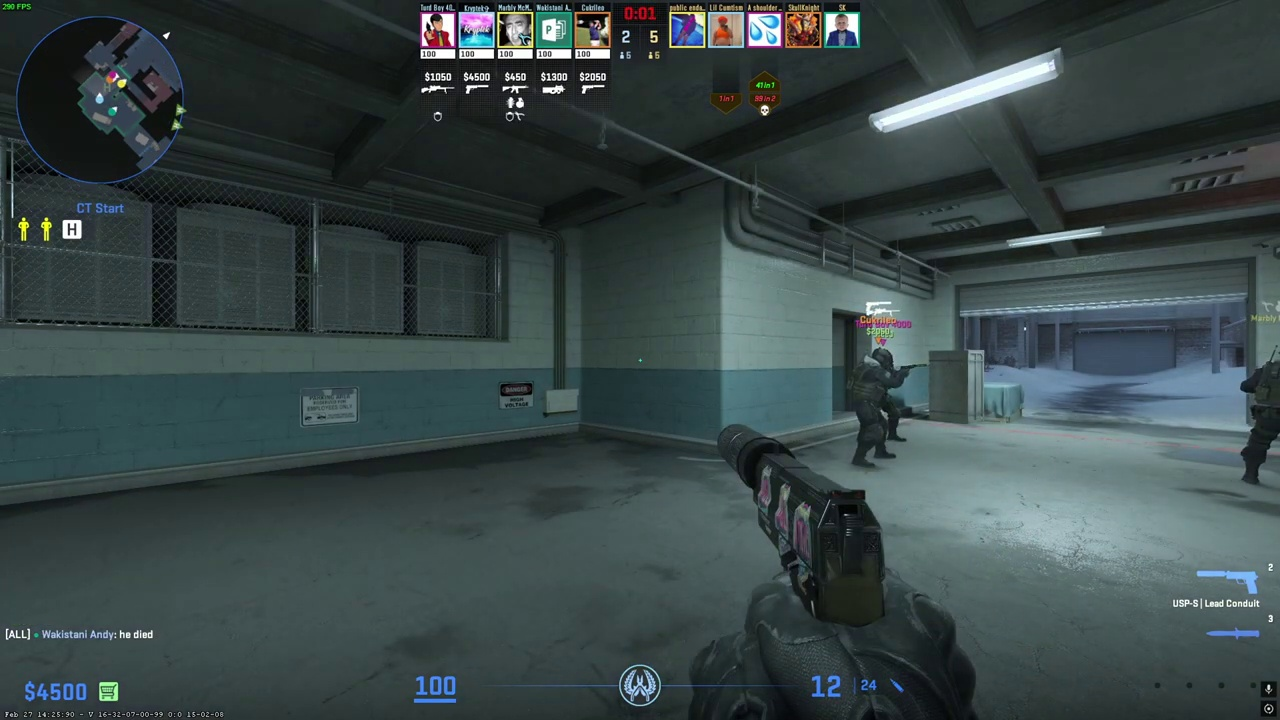CT: (852, 347, 905, 467), (1241, 350, 1280, 485)
